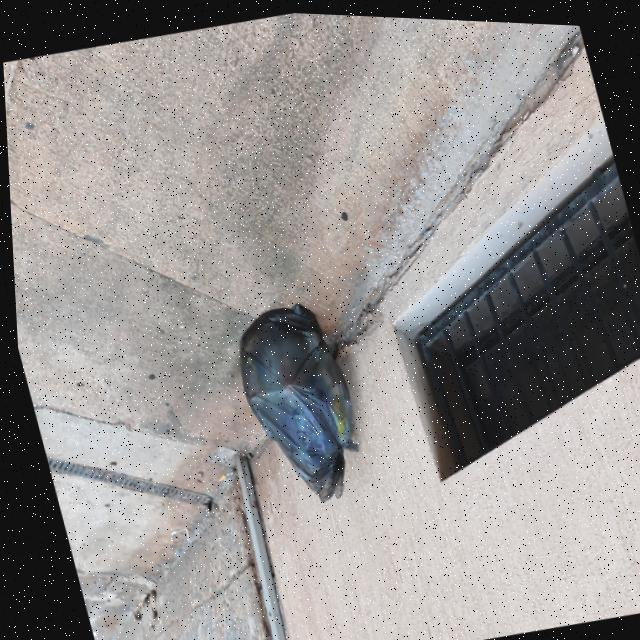Mixed Waste -Black Bag-: (221, 292, 372, 508)
